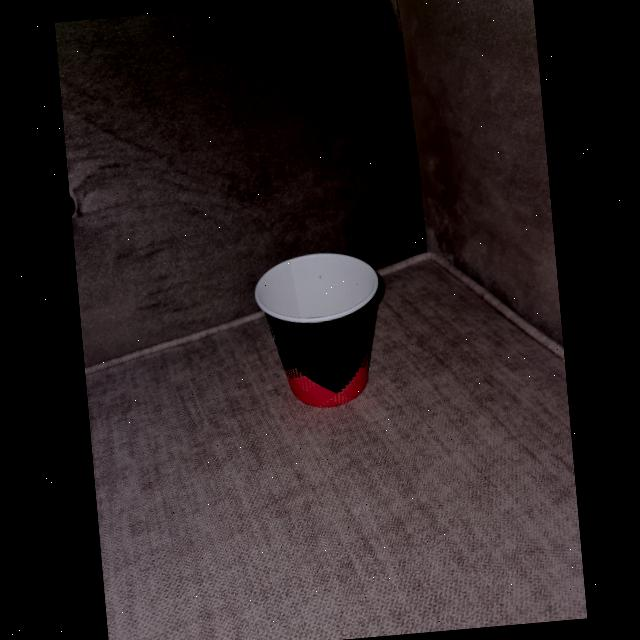trash: (254, 245, 391, 410)
